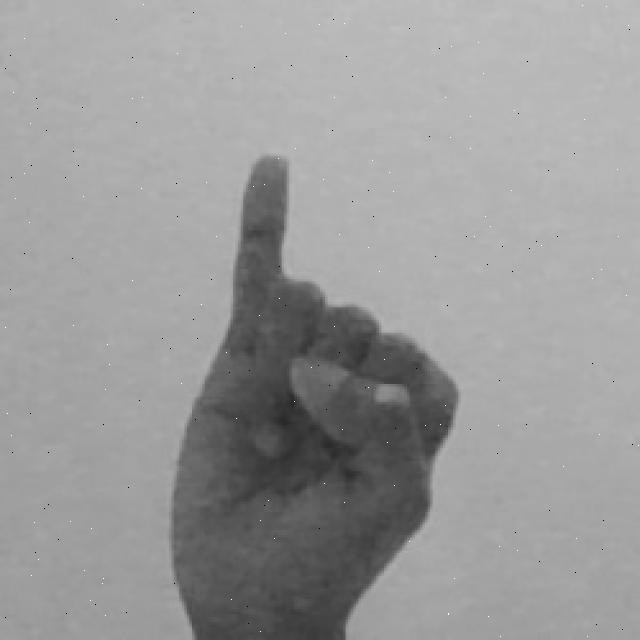I: (166, 151, 461, 640)
